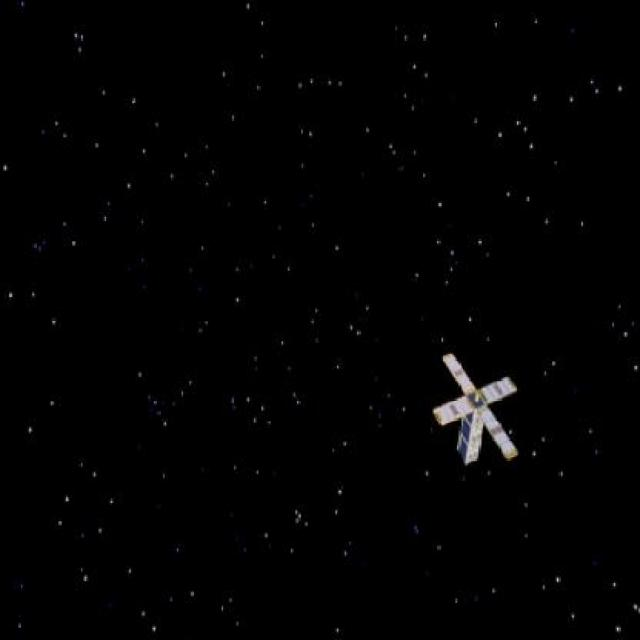medium_debris: (414, 350, 540, 473)
